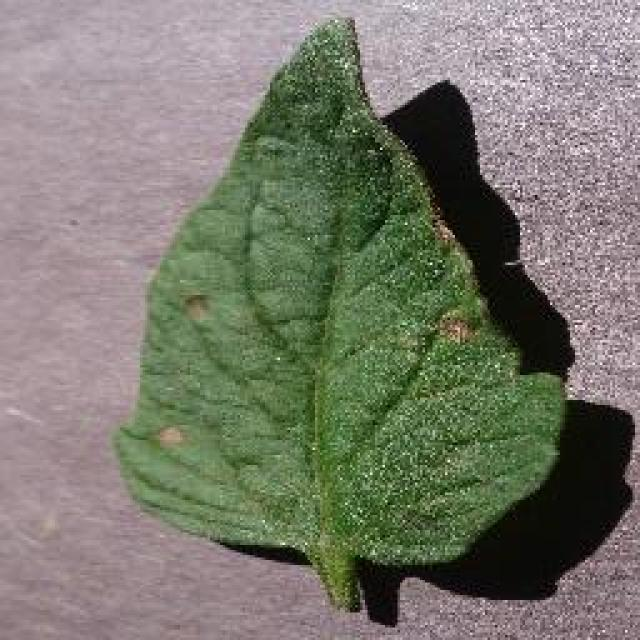Tomato___Early_blight: (108, 12, 568, 619)
